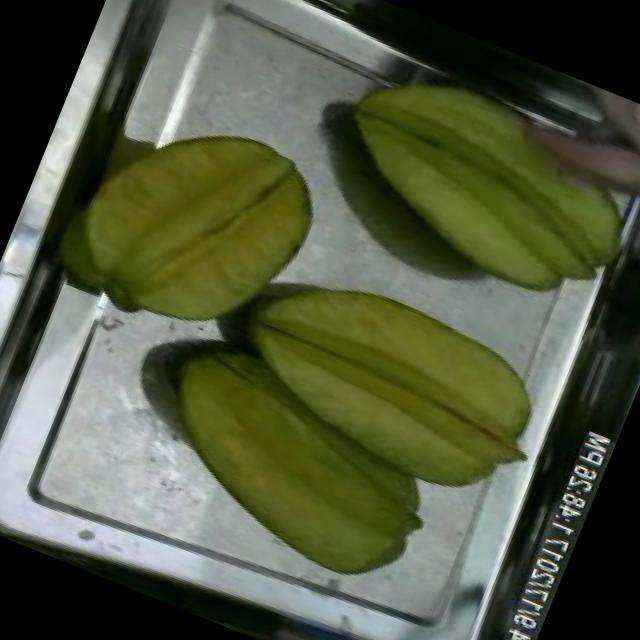fruit: (188, 228, 572, 532), (114, 314, 466, 608), (298, 30, 640, 326), (34, 72, 349, 378)
